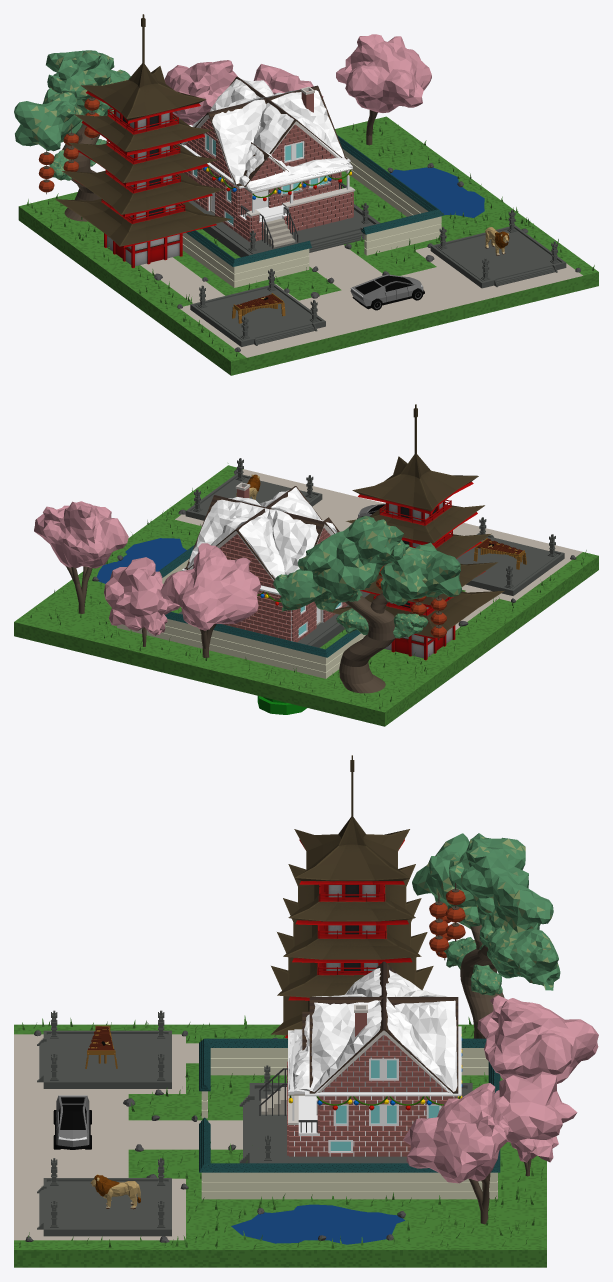
3 views of the same model, one above another, from view 1: azimuth 30°, elevation 25°; view 2: azimuth 150°, elevation 25°; view 3: azimuth 270°, elevation 25° (orthographic). The views are drawn at different scales.
Visible parts, largest first — view 1: Cube.005, Cube.1419, VEHICLES_CYBERTRUCK, OBJRANDOM_MARIMBA; view 2: Cube.005, Cube.1419, OBJRANDOM_MARIMBA, UNDERGROUND_PIPES; view 3: Cube.005, Cube.1419, VEHICLES_CYBERTRUCK, ANIMAL_LEON, OBJRANDOM_MARIMBA.
Part boxes in pixels (x1,y1,x2,y2): Cube.005: [14, 14, 598, 375]; Cube.1419: [179, 76, 355, 248]; VEHICLES_CYBERTRUCK: [350, 274, 424, 310]; OBJRANDOM_MARIMBA: [232, 293, 285, 323]; Cube.005: [14, 404, 598, 726]; Cube.1419: [181, 482, 347, 642]; OBJRANDOM_MARIMBA: [473, 538, 526, 569]; UNDERGROUND_PIPES: [257, 696, 306, 714]; Cube.005: [14, 755, 598, 1267]; Cube.1419: [259, 961, 462, 1156]; VEHICLES_CYBERTRUCK: [53, 1095, 91, 1149]; ANIMAL_LEON: [90, 1174, 140, 1209]; OBJRANDOM_MARIMBA: [85, 1025, 117, 1068].
Bounding box in the file's own units: 4528 × 3273 × 4389.
Materials: 45 (5 with a texture image).
